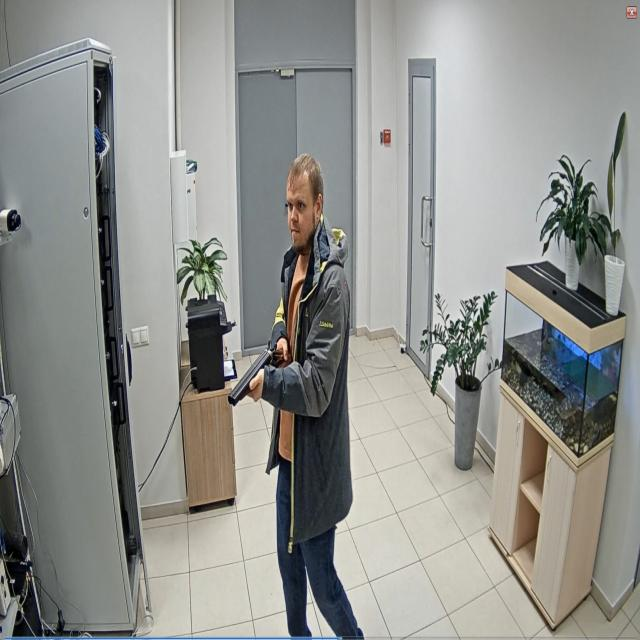-Gun: (227, 349, 292, 408)
